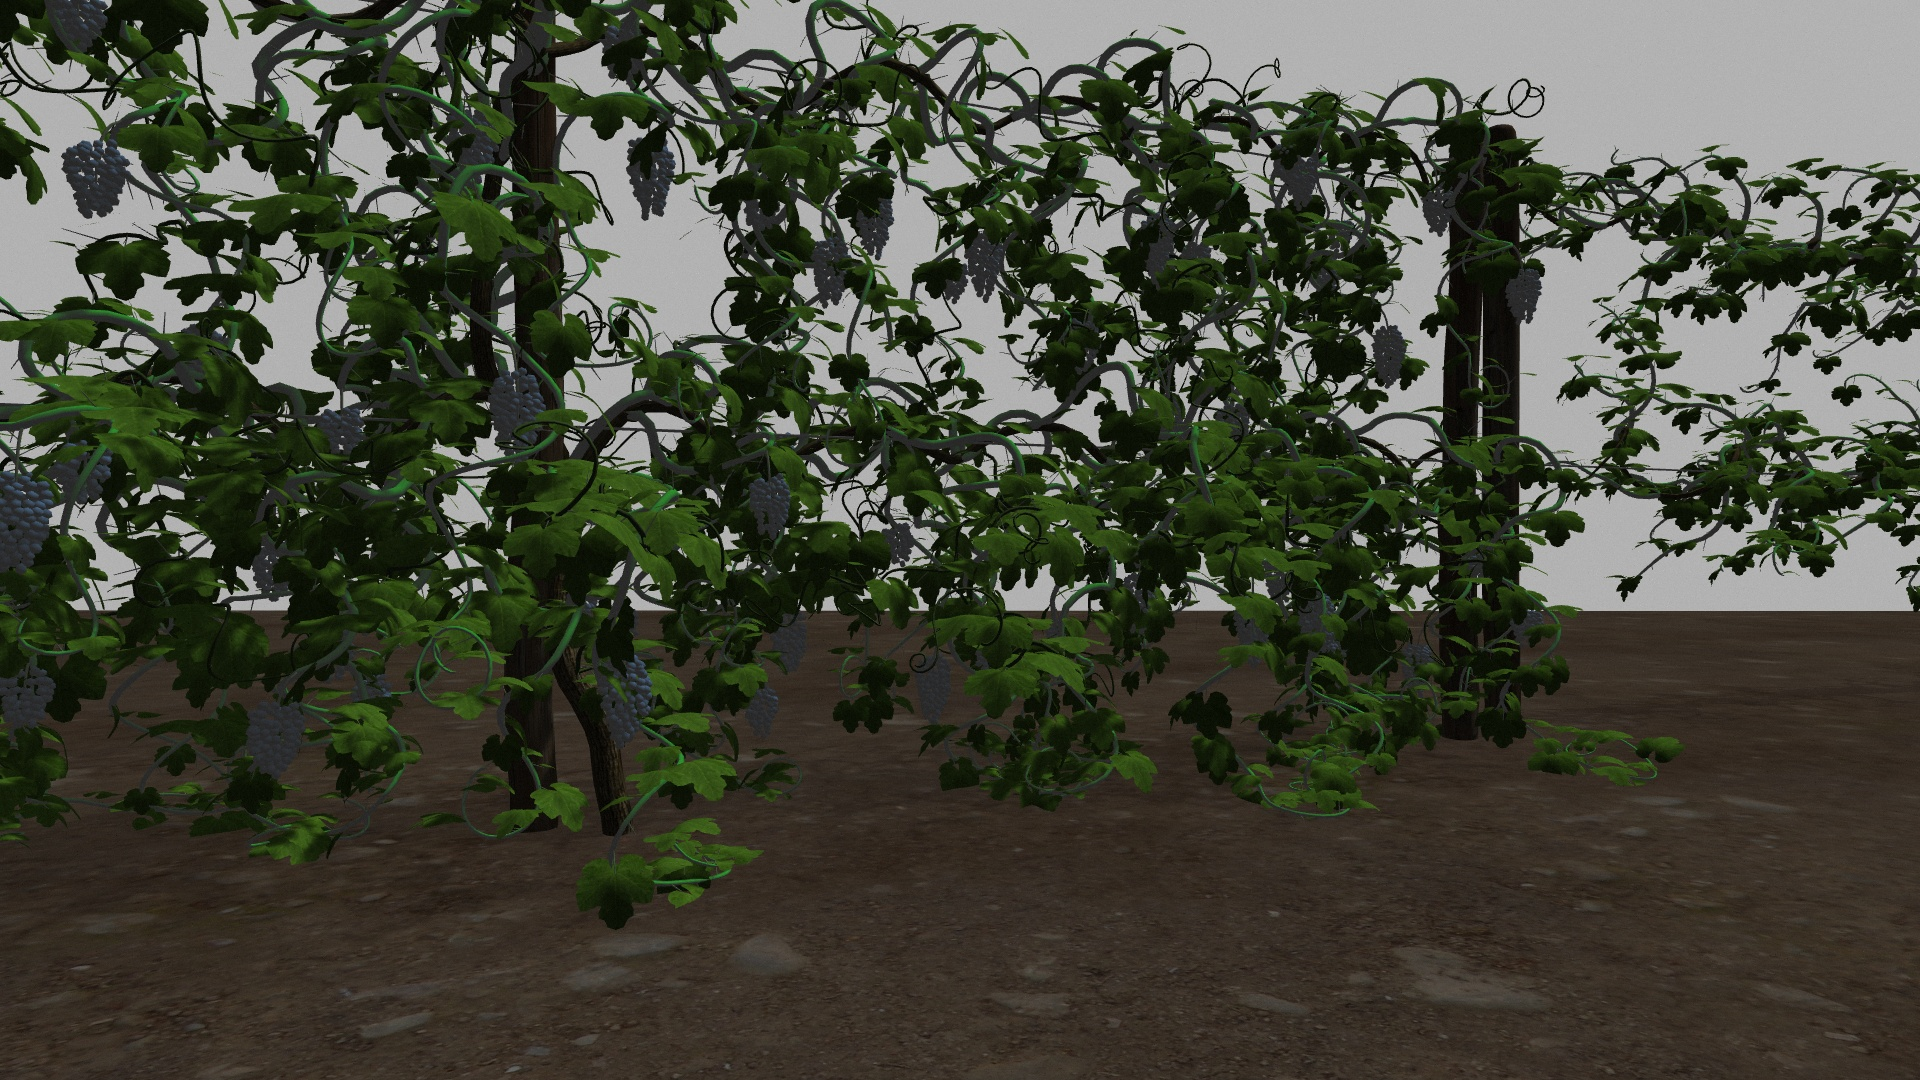grape: (245, 694, 307, 781), (63, 138, 129, 219), (599, 654, 654, 746), (5, 473, 53, 578), (488, 367, 543, 454), (626, 135, 675, 219), (55, 444, 113, 504), (4, 666, 55, 729), (45, 3, 109, 53), (855, 185, 895, 258), (748, 473, 791, 539), (965, 231, 1004, 305), (914, 654, 953, 725), (811, 237, 851, 309), (1296, 593, 1340, 654), (1369, 326, 1408, 385), (771, 615, 810, 674), (1505, 269, 1543, 326), (316, 407, 363, 454), (1233, 608, 1269, 667), (1141, 216, 1176, 272), (744, 688, 781, 741), (1422, 181, 1456, 236), (1291, 160, 1321, 211), (1510, 609, 1545, 649), (882, 524, 914, 567), (1262, 558, 1292, 603), (1400, 641, 1431, 684), (1273, 146, 1305, 185)
